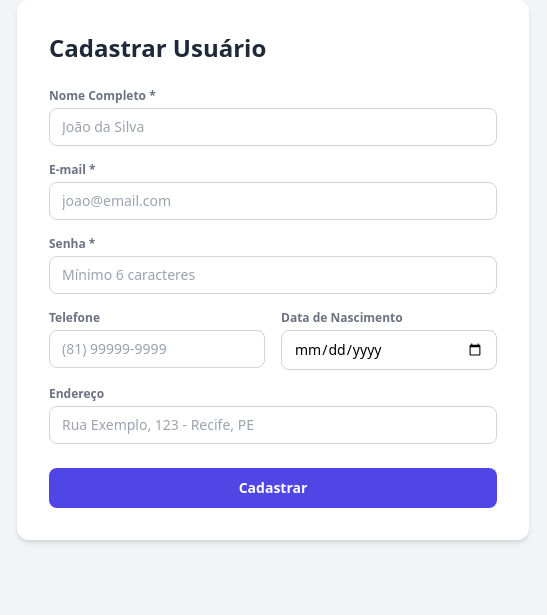
Test: FormularioCadastro › exibe mensagem de sucesso após cadastro bem-sucedido
Type "Jamylle" into the field with placeholder "João da Silva".
click(273, 127); type("Jamylle")  # box top-left (49, 108), bottom-right (497, 146)
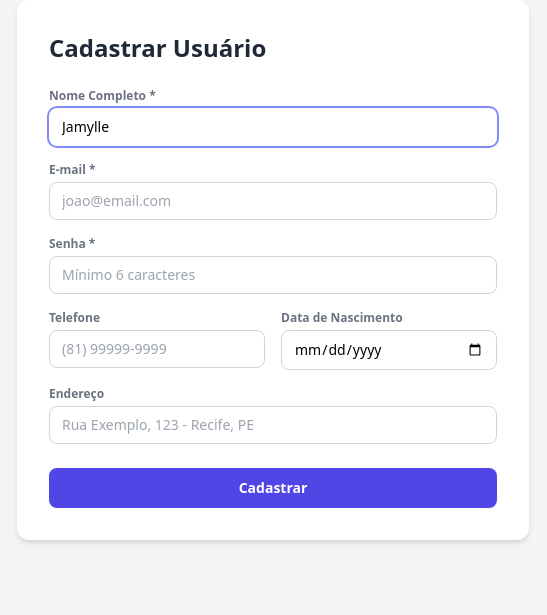
Type "j@j.com" into the field with placeholder "joao@email.com".
click(273, 201); type("j@j.com")  # box top-left (49, 182), bottom-right (497, 220)
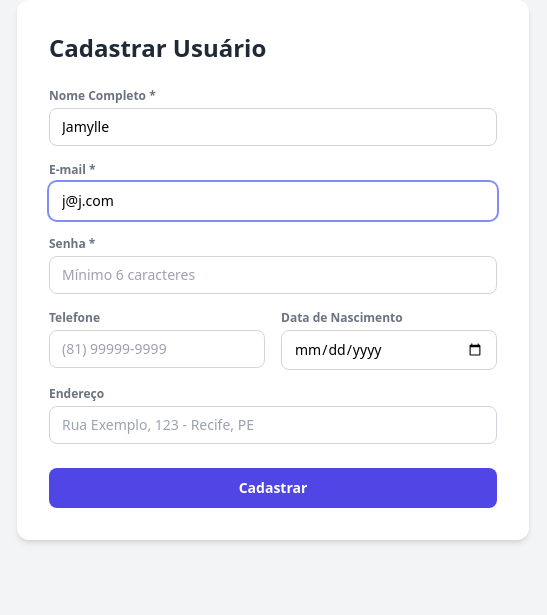
Type "123456" into the password field with placeholder "Mínimo 6 caracteres".
click(273, 275); type("123456")  # box top-left (49, 256), bottom-right (497, 294)
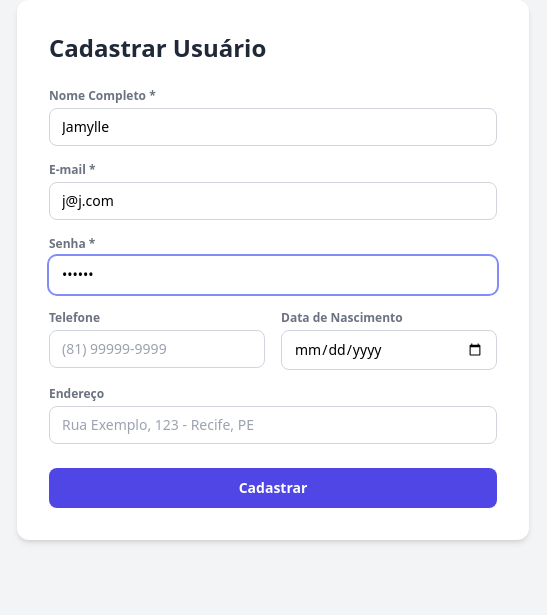
Click the button "Cadastrar".
click(273, 488)  # box top-left (49, 468), bottom-right (497, 508)
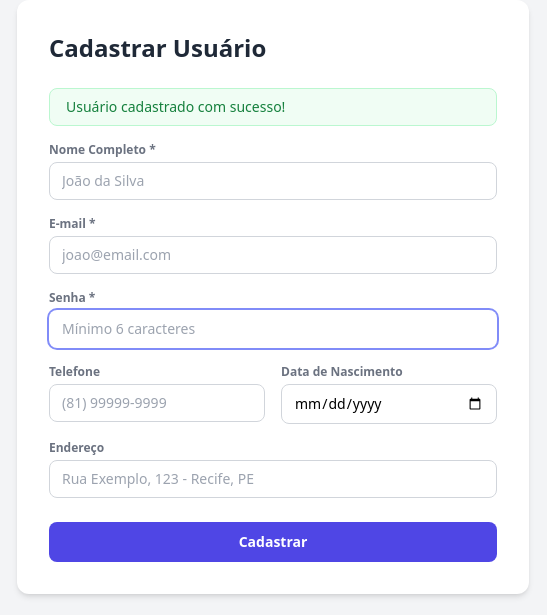
Expected: the text "Usuário cadastrado com sucesso!" is shown, top-left (49, 88), bottom-right (497, 126)
